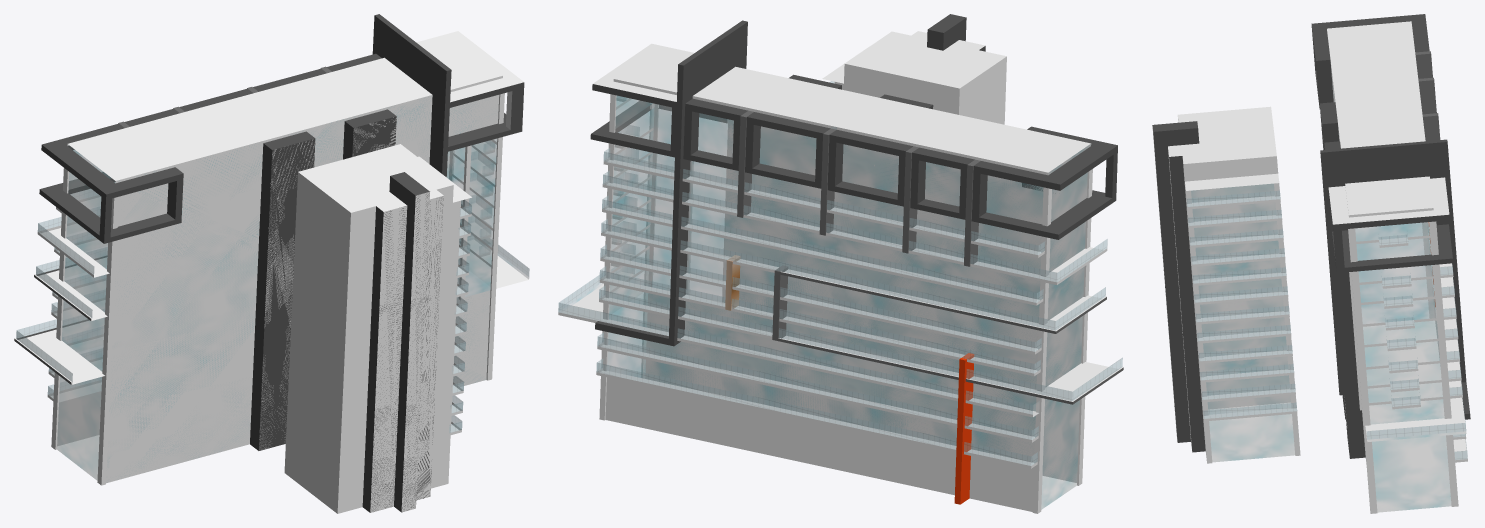
The model's file is model_png.dae.
The picture shows the model from 3 angles, left to right: view 1: azimuth 30°, elevation 25°; view 2: azimuth 150°, elevation 25°; view 3: azimuth 270°, elevation 25°; orthographic projection. The views are drawn at different scales.
Parts seen in each view (by area): view 1: Group1, Group_1, Component_14 (×2), Group2, Component_5, Component_16 (×5), Component_2, Component_10, Component_12, Component_9, Component_8, Component_1 (×2); view 2: Group1, Component_1 (×6), Group_1, Component_16 (×7), Component_10, Component_12, Component_2, Component_9, Component_8, Component_5, Component_3 (×2), Component_4 (×2) (+5 smaller); view 3: Group1, Group_1, Component_15 (×12), Component_2, Component_16 (×7), Group2, Component_13 (×8), Component_5, Component_12, Component_14 (×2), Component_3 (×2), Component_4.
Boxes of the visible parts, bbox=[...] form: Group1: bbox=[57, 31, 524, 483]; Group_1: bbox=[284, 144, 471, 513]; Component_14 (×2): bbox=[250, 109, 396, 450]; Group2: bbox=[389, 172, 429, 512]; Component_5: bbox=[39, 123, 183, 243]; Component_16 (×5): bbox=[52, 93, 504, 485]; Component_2: bbox=[372, 14, 451, 176]; Component_10: bbox=[14, 309, 104, 384]; Component_12: bbox=[62, 235, 529, 351]; Component_9: bbox=[34, 247, 107, 320]; Component_8: bbox=[37, 207, 109, 277]; Component_1 (×2): bbox=[47, 275, 106, 402]; Group1: bbox=[590, 43, 1091, 511]; Component_1 (×6): bbox=[596, 148, 1045, 468]; Group_1: bbox=[822, 31, 1006, 124]; Component_16 (×7): bbox=[599, 94, 1092, 513]; Component_10: bbox=[599, 285, 1123, 404]; Component_12: bbox=[558, 275, 1039, 417]; Component_2: bbox=[595, 20, 747, 346]; Component_9: bbox=[601, 219, 1106, 333]; Component_8: bbox=[602, 170, 1107, 284]; Component_5: bbox=[971, 126, 1117, 239]; Component_3 (×2): bbox=[745, 112, 912, 206]; Component_4 (×2): bbox=[683, 98, 974, 219]; Group1: bbox=[1327, 21, 1453, 512]; Group_1: bbox=[1168, 106, 1294, 462]; Component_15 (×12): bbox=[1186, 190, 1297, 421]; Component_2: bbox=[1320, 139, 1470, 419]; Component_16 (×7): bbox=[1185, 177, 1458, 513]; Group2: bbox=[1152, 121, 1199, 442]; Component_13 (×8): bbox=[1356, 234, 1442, 409]; Component_5: bbox=[1311, 14, 1429, 109]; Component_12: bbox=[1365, 233, 1466, 441]; Component_14 (×2): bbox=[1319, 102, 1365, 458]; Component_3 (×2): bbox=[1418, 80, 1439, 141]; Component_4: bbox=[1415, 53, 1432, 78].
Bounding box in the file's own units: 89.04 × 53.82 × 65.29.
Materials: 11 (4 with a texture image).
